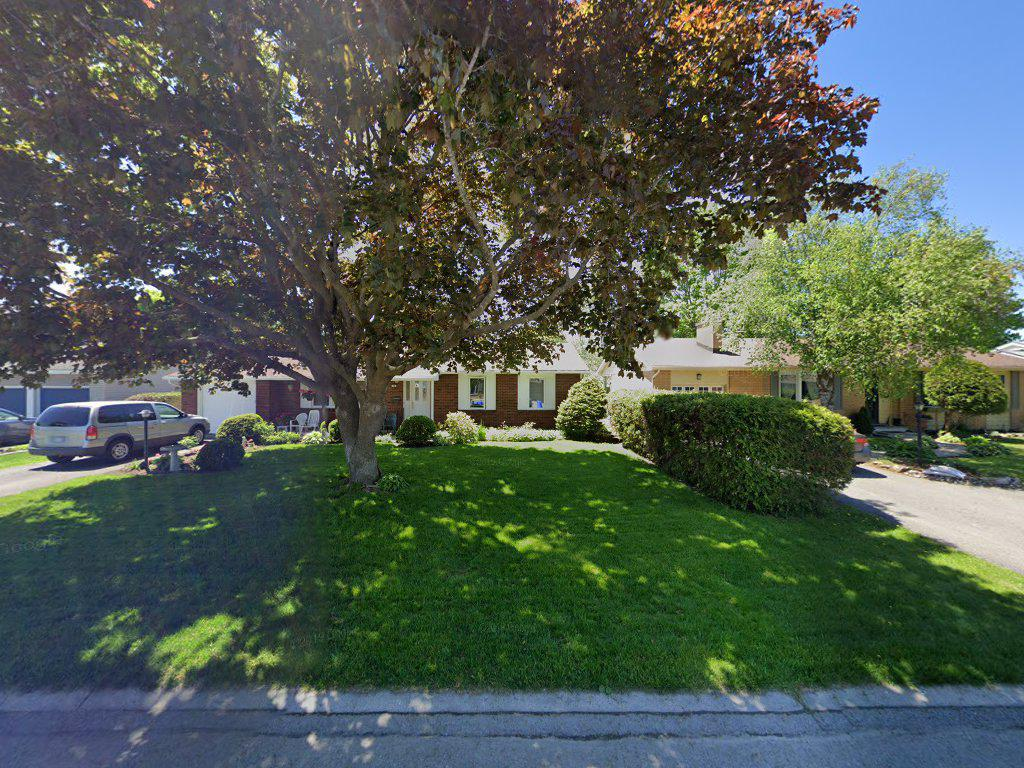trunk: (315, 353, 395, 501)
